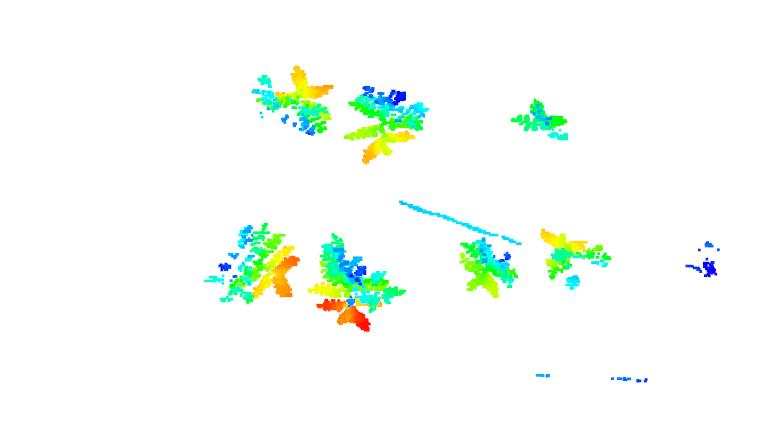chickpea: (305, 233, 404, 332), (200, 220, 300, 306), (344, 84, 431, 160), (251, 60, 337, 134), (535, 226, 612, 291), (454, 235, 520, 298), (511, 97, 570, 145)
